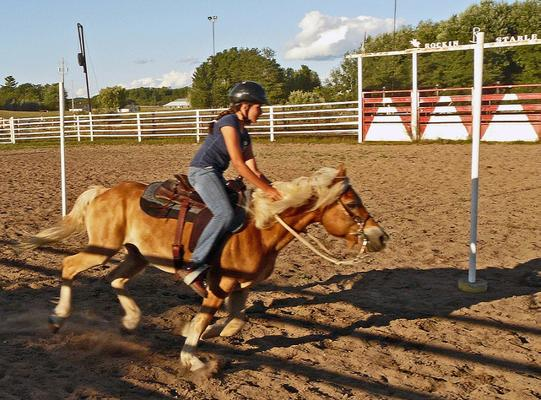person: (176, 82, 284, 297)
